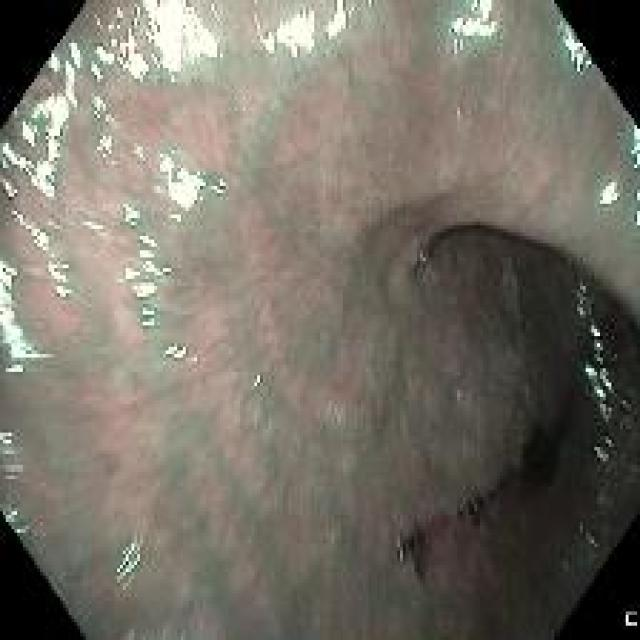blood: (475, 424, 561, 511), (391, 519, 428, 576)
blur: (52, 43, 494, 608)
bubbles: (578, 524, 602, 552), (590, 489, 614, 511), (560, 555, 571, 576), (610, 477, 622, 493)
contrast: (521, 243, 637, 636)
specularity: (2, 35, 77, 210), (574, 277, 626, 468), (0, 256, 53, 382), (154, 148, 224, 224), (13, 210, 70, 302), (121, 231, 172, 329), (143, 5, 221, 67), (83, 9, 153, 77), (259, 10, 317, 61), (111, 533, 155, 593), (91, 87, 125, 163), (447, 3, 504, 46), (558, 15, 594, 78), (598, 178, 627, 216), (1, 505, 34, 537), (327, 2, 356, 32), (158, 340, 192, 363), (118, 199, 141, 229), (83, 217, 111, 240), (248, 367, 269, 394), (631, 123, 639, 169), (1, 427, 14, 452), (130, 142, 145, 163), (633, 185, 639, 230)
